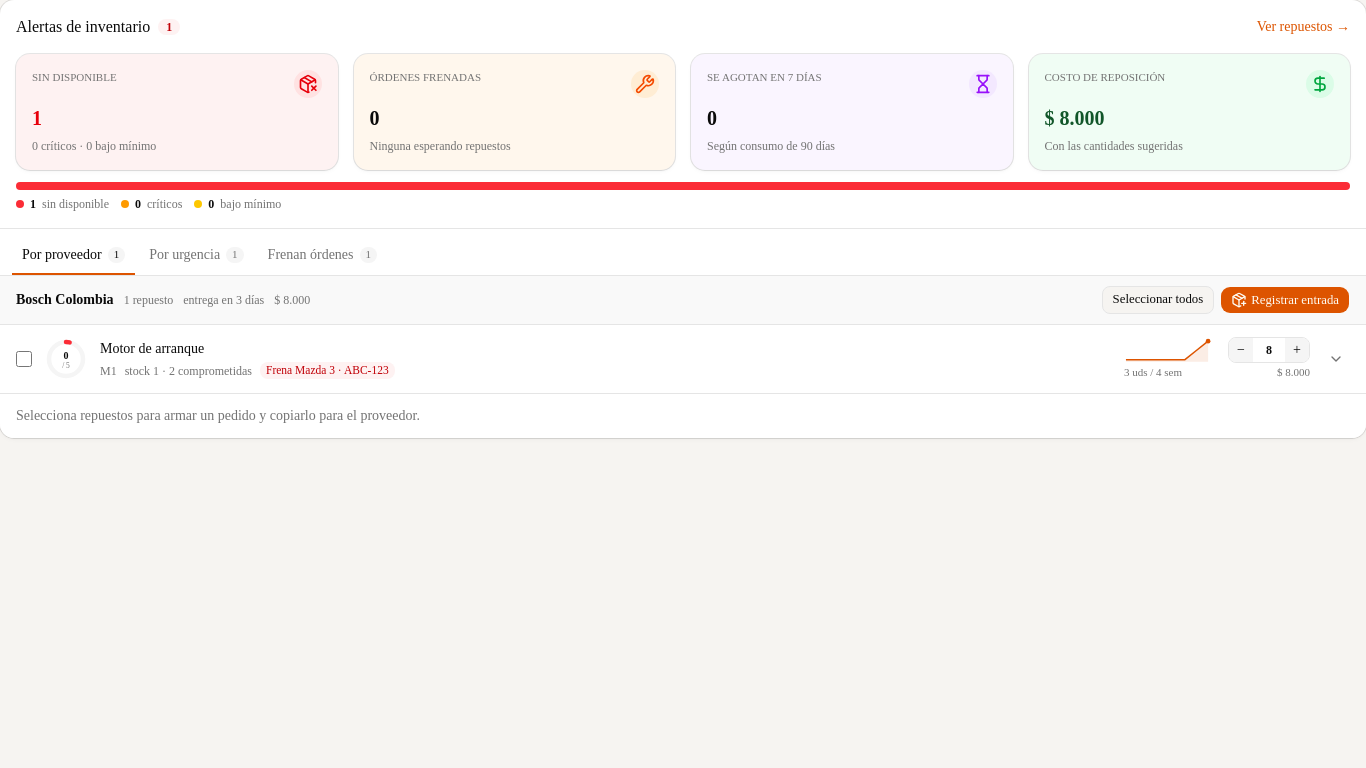
Test case: AlertasInventarioCard › reveals purchase history and links to the ordenes using the repuesto
The width and height of the screenshot is (1366, 768).
Click the button named "Detalle de Motor de arranque" at point(1336, 359), box x1=1322 y1=345 x2=1350 y2=373
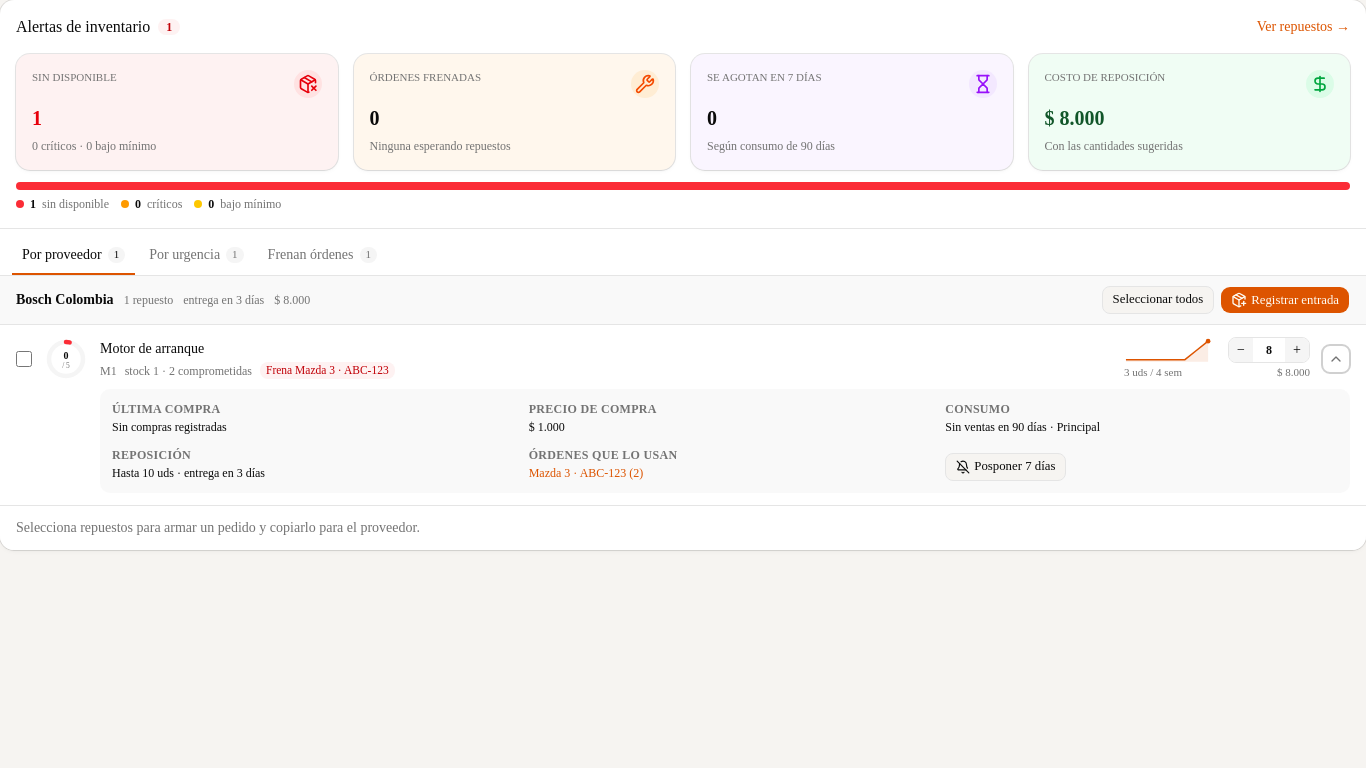
Expected: the text "Sin compras registradas" is shown, x1=112 y1=420 x2=227 y2=434
